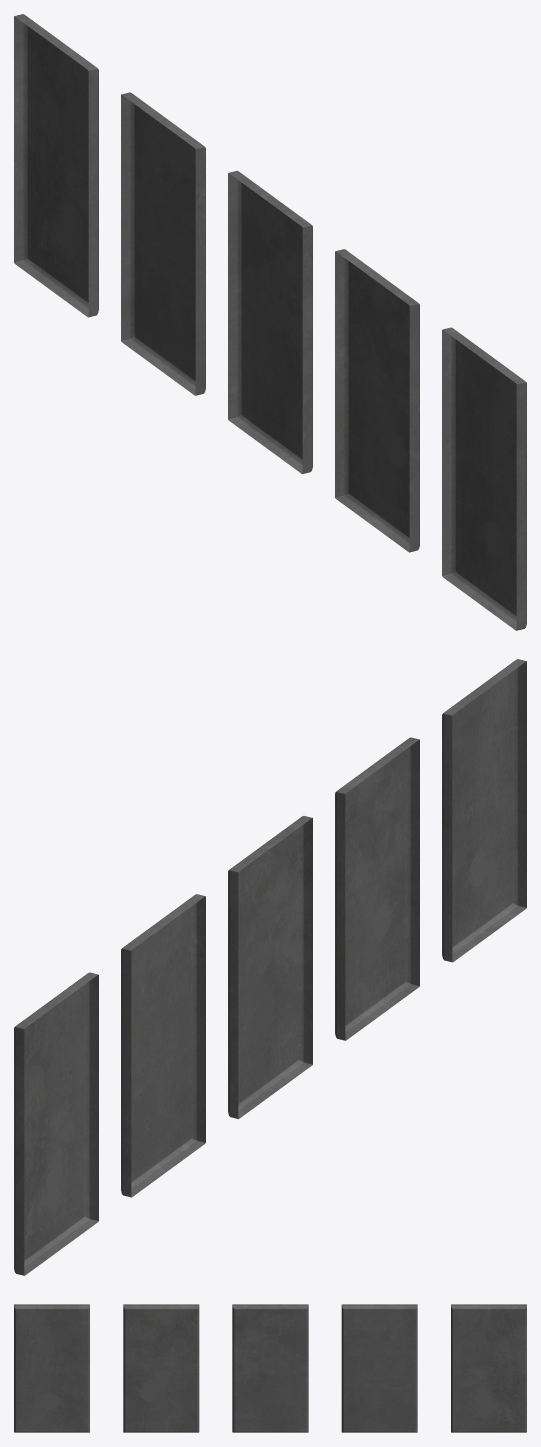
Rendered from cP_Pathway03_SteppingStoneLong02_Comb01.dae.
3 renders of one model, top to bottom at view 1: azimuth 30°, elevation 25°; view 2: azimuth 150°, elevation 25°; view 3: azimuth 270°, elevation 25°, orthographic. The views are drawn at different scales.
Parts seen in each view (by area): view 1: cP_Pathway03_SteppingStoneLong02_Comb01.001; view 2: cP_Pathway03_SteppingStoneLong02_Comb01.001; view 3: cP_Pathway03_SteppingStoneLong02_Comb01.001.
Part boxes in pixels (box(x1,y1,x2,y2)): cP_Pathway03_SteppingStoneLong02_Comb01.001: box(14, 14, 526, 630); cP_Pathway03_SteppingStoneLong02_Comb01.001: box(14, 659, 526, 1275); cP_Pathway03_SteppingStoneLong02_Comb01.001: box(14, 1304, 526, 1432).
Size of the model in its own units: 0.0499 by 3.52 by 0.9566.
